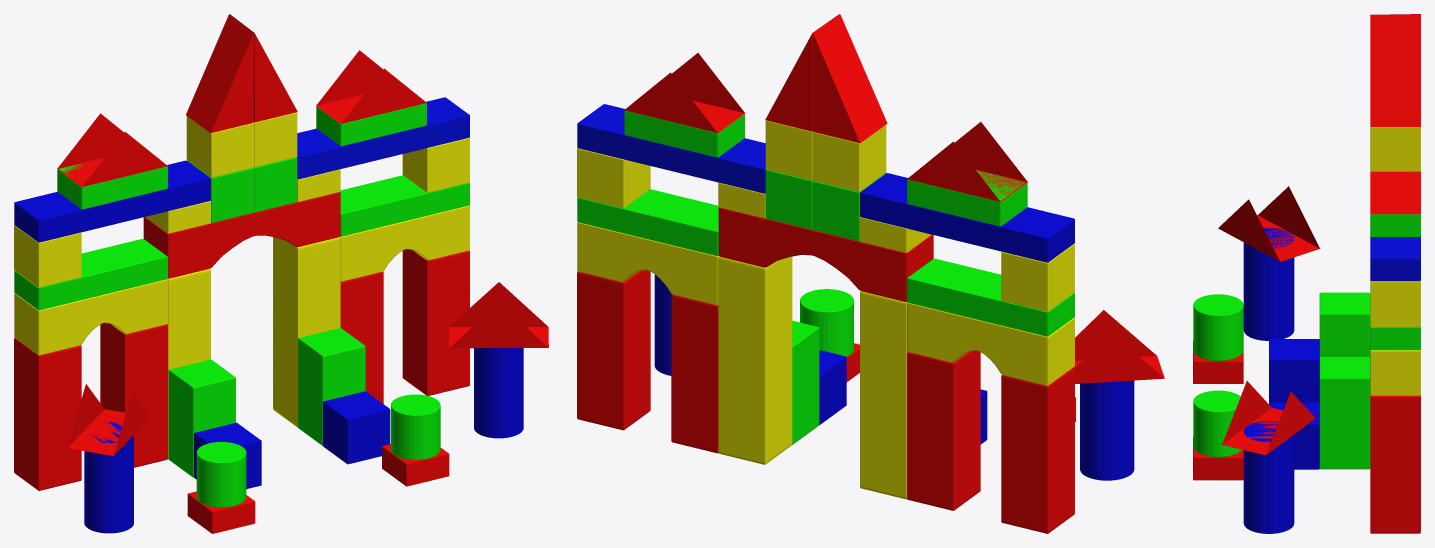
File: creative.glb
3 views of the same model, side by side, from view 1: azimuth 30°, elevation 25°; view 2: azimuth 150°, elevation 25°; view 3: azimuth 270°, elevation 25° (orthographic). The views are drawn at different scales.
Parts seen in each view (by area): view 1: Cube, Cube.004, Cube.003, Cube.008, Cube.001, Cube.006, Cube.023, Cube.022, Cube.007, Cube.016, Cube.009, Cube.010 (+27 smaller); view 2: Cube.003, Cube, Cube.001, Cube.004, Cube.002, Cube.008, Cube.006, Cube.023, Cube.005, Cube.022, Cube.007, Cube.016 (+21 smaller); view 3: Cube.004, Cube.013, Cube.032, Cylinder.003, Cylinder.002, Cube.034, Cube.033, Cube.009, Cylinder, Cube.011, Cylinder.001, Cube.019 (+9 smaller).
Boxes of the visible parts, x1=… form: Cube: x1=14, y1=338, x2=81, y2=490; Cube.004: x1=402, y1=249, x2=469, y2=395; Cube.003: x1=273, y1=237, x2=340, y2=427; Cube.008: x1=143, y1=192, x2=340, y2=278; Cube.001: x1=100, y1=323, x2=167, y2=467; Cube.006: x1=14, y1=279, x2=167, y2=355; Cube.023: x1=14, y1=160, x2=210, y2=242; Cube.022: x1=297, y1=97, x2=469, y2=179; Cube.007: x1=340, y1=205, x2=469, y2=281; Cube.016: x1=14, y1=239, x2=167, y2=310; Cube.009: x1=168, y1=359, x2=235, y2=477; Cube.010: x1=186, y1=14, x2=253, y2=133; Cube.003: x1=718, y1=256, x2=792, y2=464; Cube: x1=1001, y1=367, x2=1074, y2=533; Cube.001: x1=907, y1=350, x2=980, y2=510; Cube.004: x1=577, y1=270, x2=650, y2=430; Cube.002: x1=860, y1=291, x2=907, y2=499; Cube.008: x1=718, y1=207, x2=933, y2=301; Cube.006: x1=907, y1=302, x2=1074, y2=385; Cube.023: x1=860, y1=173, x2=1074, y2=262; Cube.005: x1=671, y1=294, x2=718, y2=453; Cube.022: x1=577, y1=104, x2=765, y2=193; Cube.007: x1=577, y1=222, x2=718, y2=305; Cube.016: x1=907, y1=258, x2=1074, y2=336; Cube.004: x1=1370, y1=395, x2=1420, y2=533; Cube.013: x1=1319, y1=357, x2=1370, y2=469; Cube.032: x1=1370, y1=14, x2=1420, y2=127; Cylinder.003: x1=1243, y1=421, x2=1294, y2=533; Cylinder.002: x1=1243, y1=228, x2=1294, y2=340; Cube.034: x1=1218, y1=186, x2=1319, y2=261; Cube.033: x1=1222, y1=381, x2=1315, y2=455; Cube.009: x1=1319, y1=292, x2=1370, y2=357; Cylinder: x1=1193, y1=294, x2=1243, y2=360; Cube.011: x1=1269, y1=339, x2=1319, y2=402; Cylinder.001: x1=1193, y1=390, x2=1241, y2=457; Cube.019: x1=1370, y1=280, x2=1420, y2=327.
Size of the model in its own units: 22.48 by 18 by 9.
